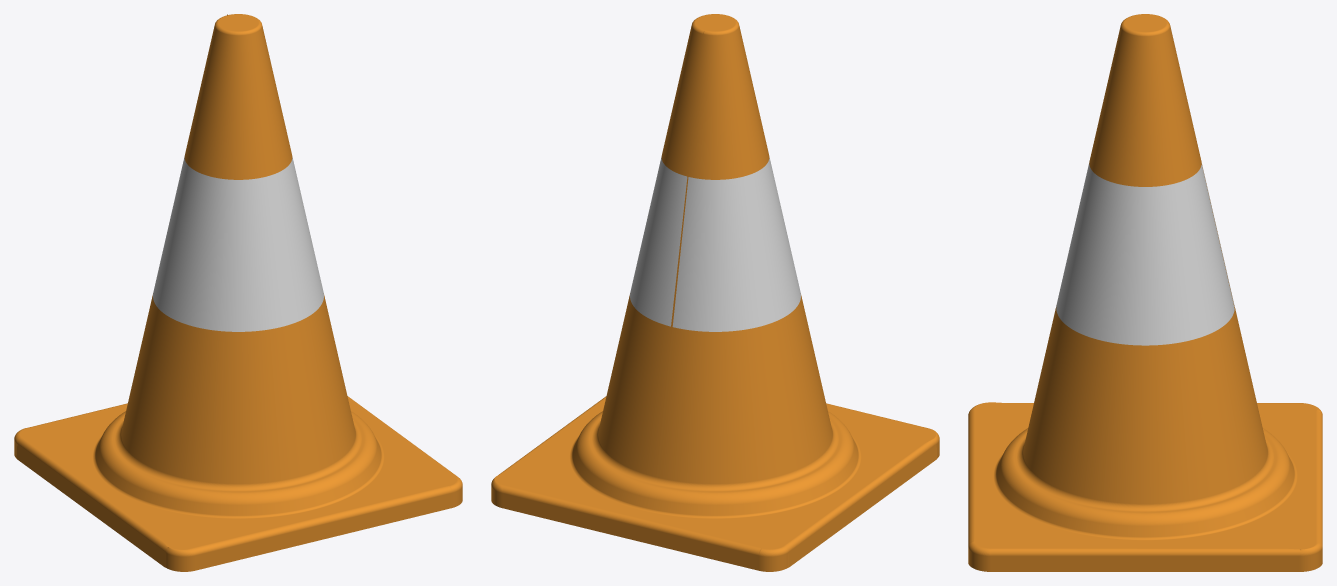
The model's file is karakokonn.blend.jpg.fbx.
The picture shows the model from 3 angles, left to right: view 1: azimuth 30°, elevation 25°; view 2: azimuth 150°, elevation 25°; view 3: azimuth 270°, elevation 25°; orthographic projection. The views are drawn at different scales.
Visible parts, largest first — view 1: 平面; view 2: 平面; view 3: 平面.
Boxes of the visible parts, bbox=[...] form: 平面: bbox=[14, 14, 462, 571]; 平面: bbox=[491, 14, 939, 571]; 平面: bbox=[968, 14, 1322, 571].
Size of the model in its own units: 200 by 295 by 200.
